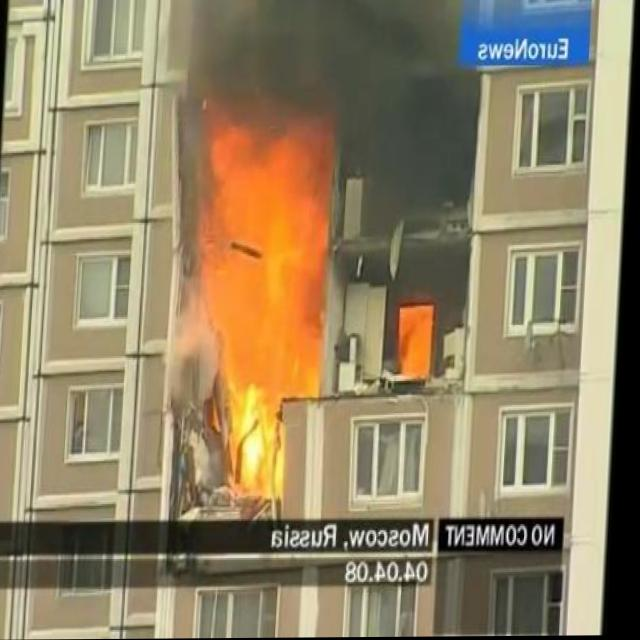fire: (176, 99, 336, 488), (398, 305, 435, 382)
